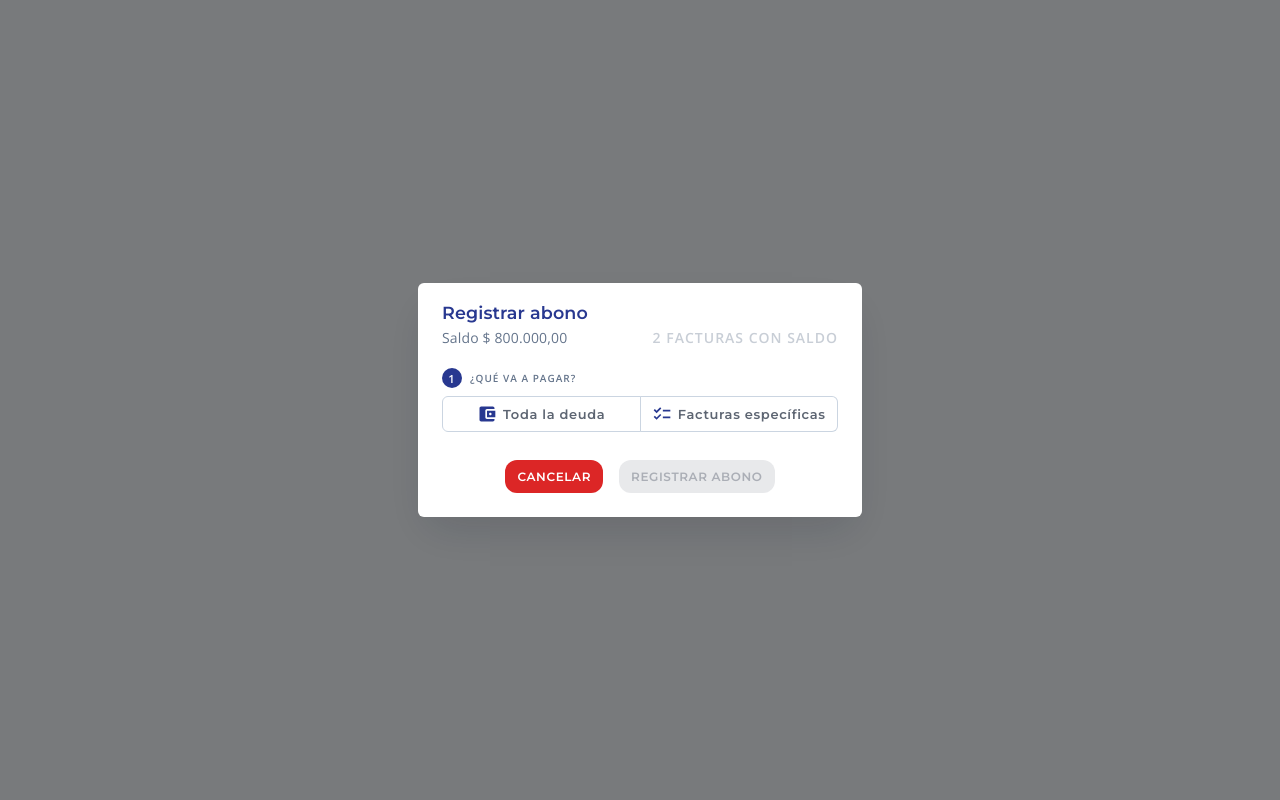
AbonoDialog › dice cuántas facturas con saldo hay y las lista al elegir facturas
Expected: the text "2 facturas con saldo" is shown, x1=653 y1=326 x2=838 y2=348
Click the button "Facturas específicas".
click(739, 414)  # box x1=640 y1=396 x2=838 y2=432
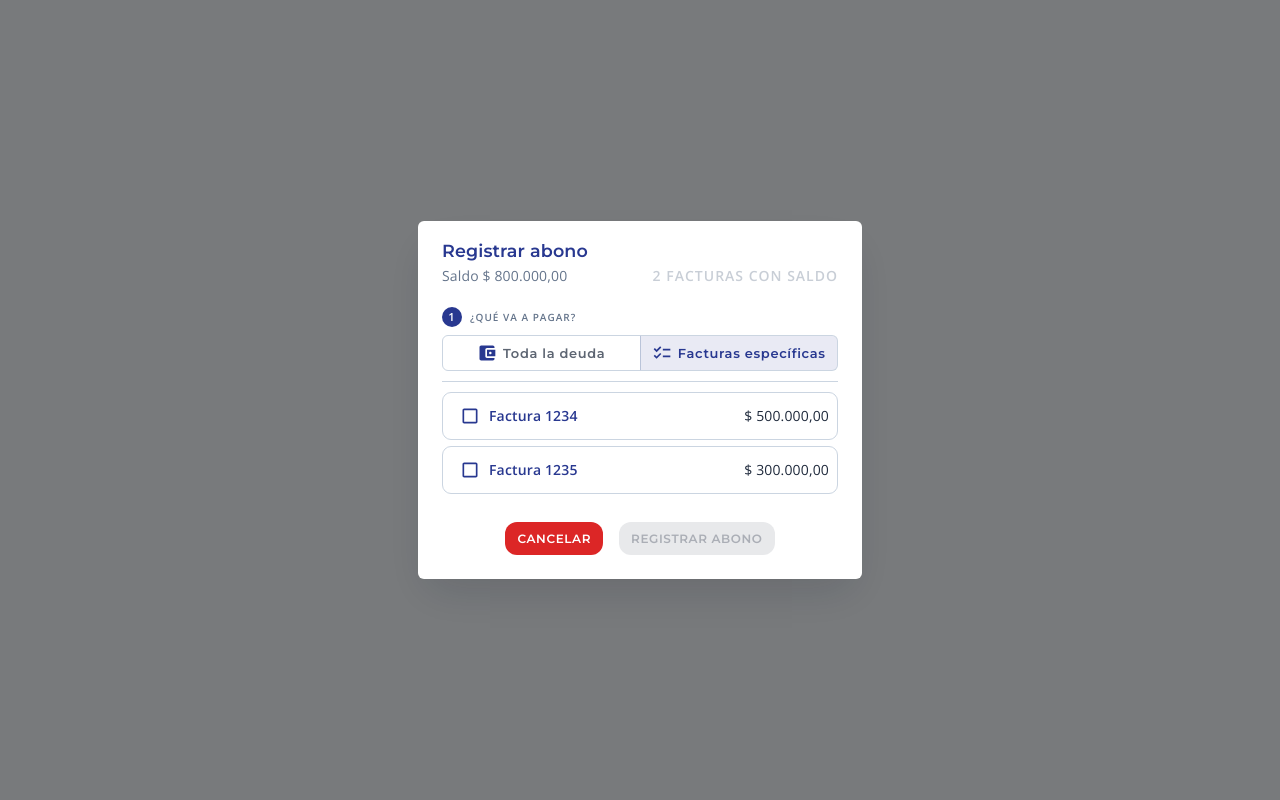
Expected: the text "Factura 1234" is shown, x1=489 y1=406 x2=578 y2=426
Expected: the text "Factura 1235" is shown, x1=489 y1=460 x2=578 y2=480
